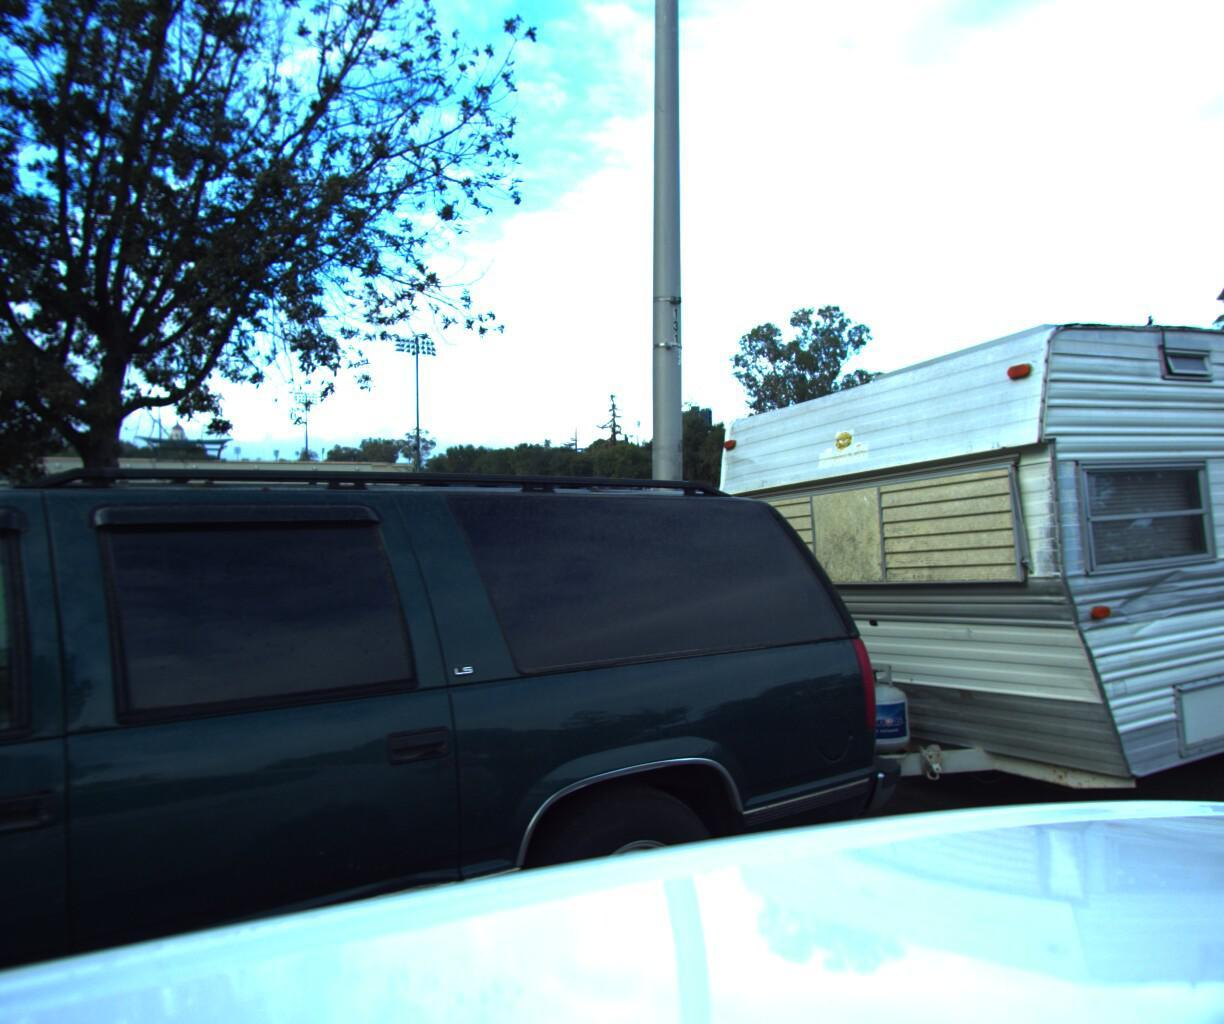car: (0, 393, 950, 1024)
other_vehicle: (670, 259, 1224, 957)
